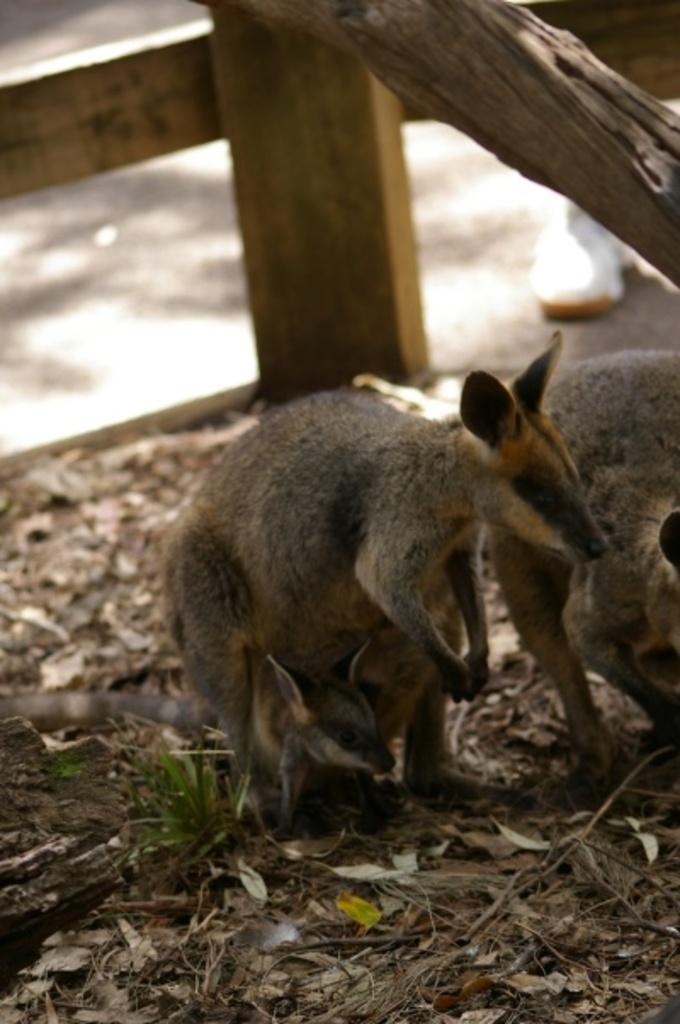kangaroo: (0, 334, 609, 822), (492, 335, 674, 794)
